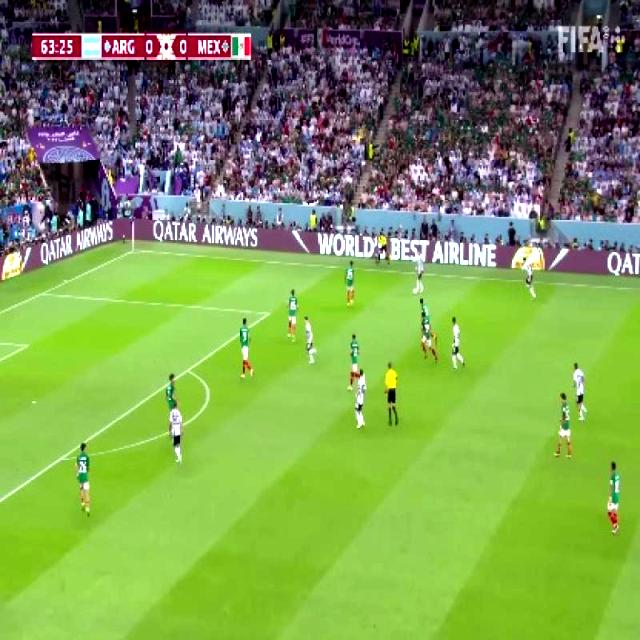bigarea_top_inner: (263, 306, 272, 319)
bigarea_top_outter: (40, 289, 46, 297)
bottom_arc_area_intersection: (57, 450, 66, 465)
corner: (130, 246, 140, 252)
smallarea_top_inner: (20, 341, 28, 351)
top_arc_area_intersection: (183, 363, 190, 375)
